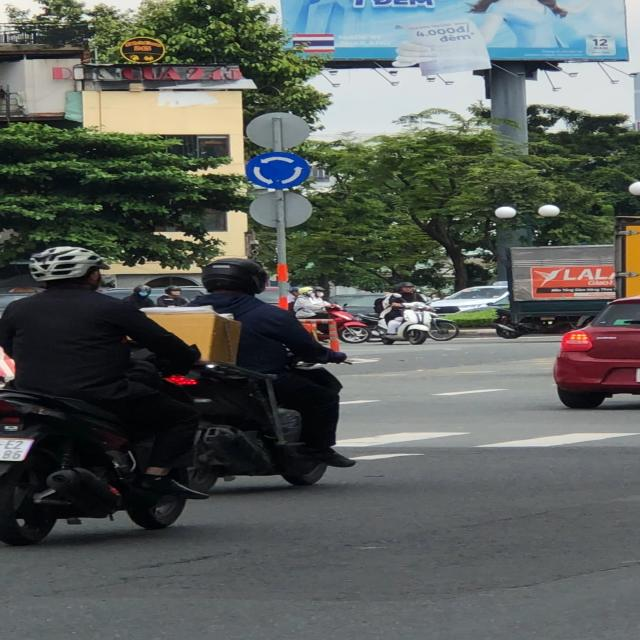Bien bao noi giao nhau chay theo vong xuyen: (239, 149, 315, 190)
